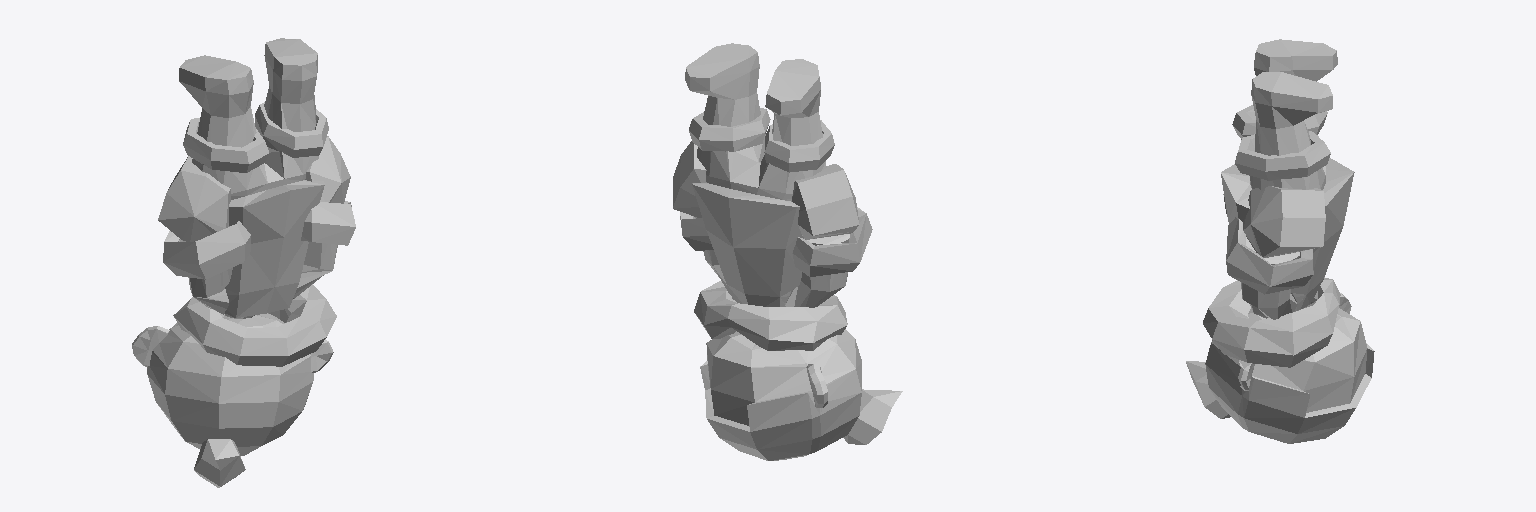
The model's file is eikastanding_000218.obj.
3 renders of one model, left to right at view 1: azimuth 30°, elevation 25°; view 2: azimuth 150°, elevation 25°; view 3: azimuth 270°, elevation 25°, orthographic.
Visible parts, largest first — view 1: Cylinder; view 2: Cylinder; view 3: Cylinder.
Boxes of the visible parts, x1=… form: Cylinder: x1=132, y1=38, x2=355, y2=487; Cylinder: x1=673, y1=43, x2=902, y2=460; Cylinder: x1=1186, y1=39, x2=1374, y2=443.
Bounding box in the file's own units: 26.41 × 51.59 × 22.78.